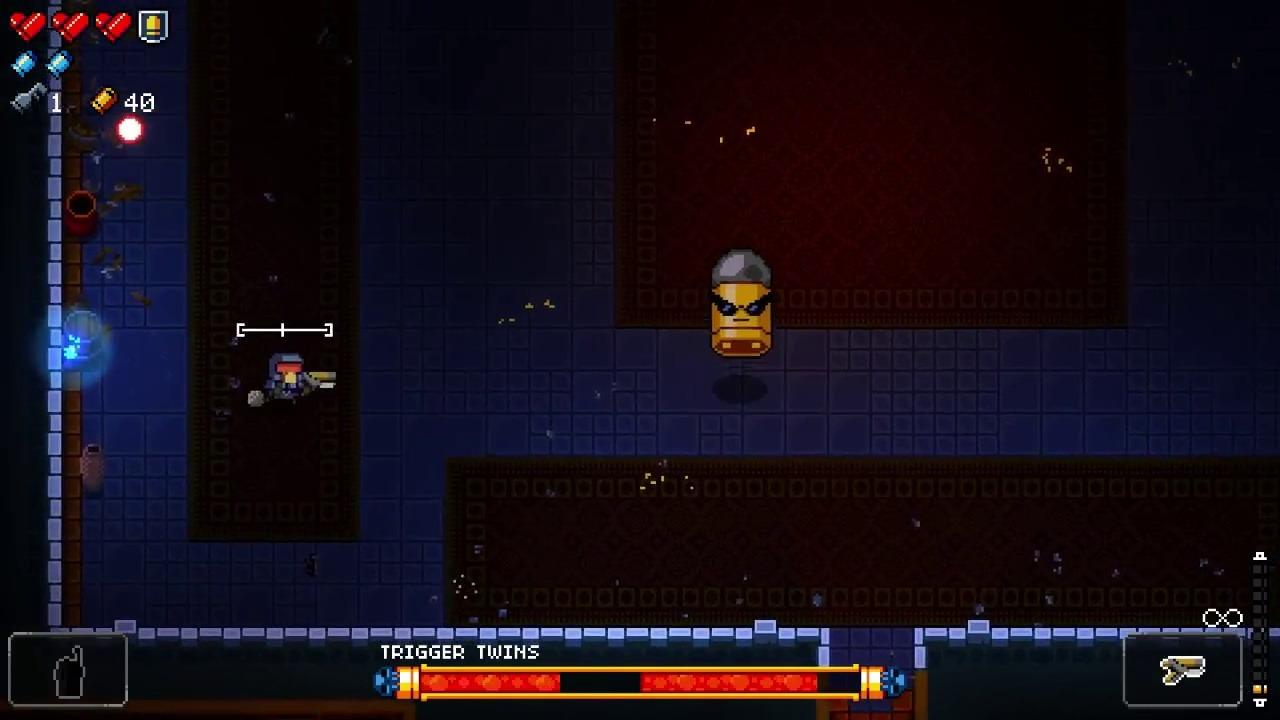boss_shades: (710, 252, 774, 358)
player: (263, 355, 307, 408)
